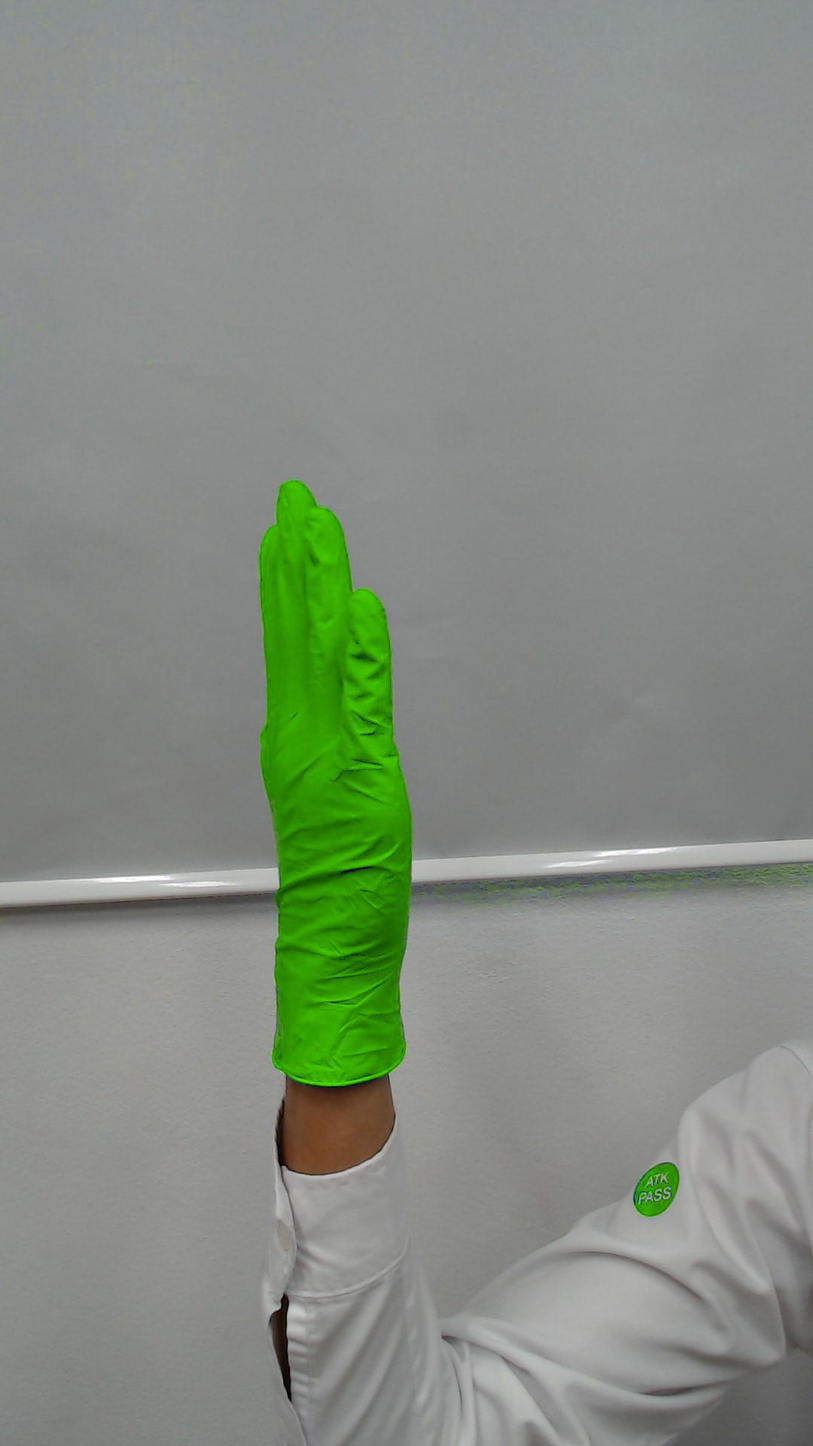gloves: (257, 471, 422, 919)
